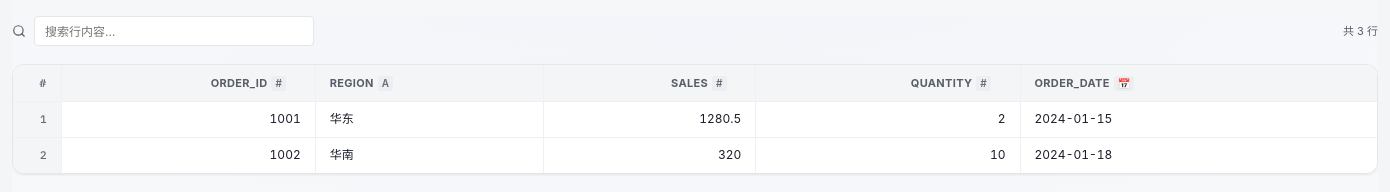
Test: DataTable › filters rows via the search box
Expected: the text "共 3 行" is shown, [1343,23,1378,39]
Type "华南" into the field named "过滤数据预览行" at x=174, y=31, box [34,16,314,46]
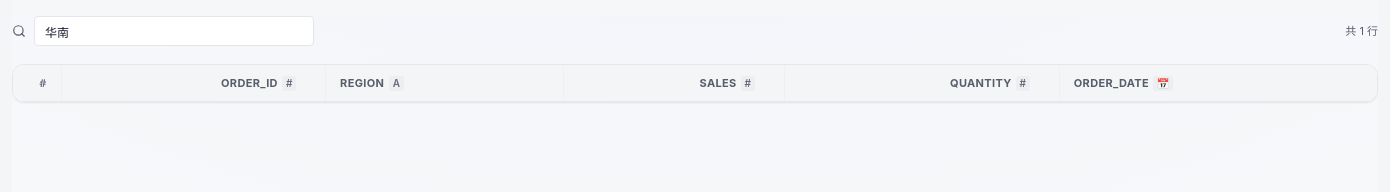
Expected: the text "华北" is not shown
Result: the text "共 1 行" is shown at [1345,23,1378,39]
